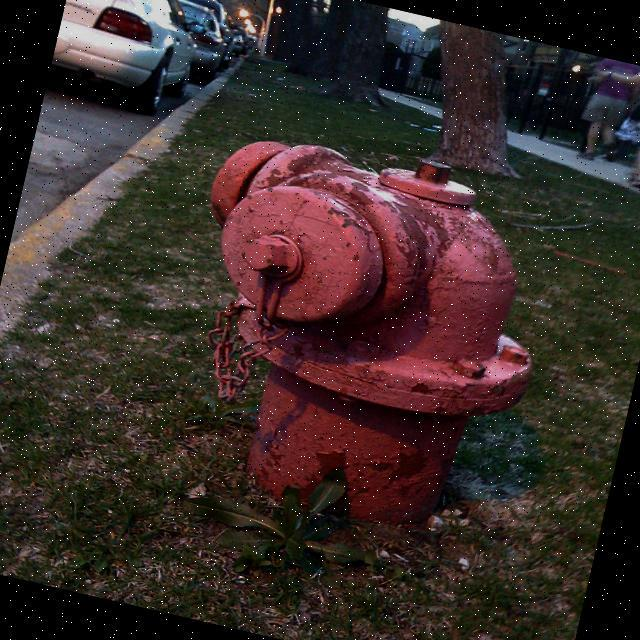fire_hydrant: (138, 106, 582, 562)
